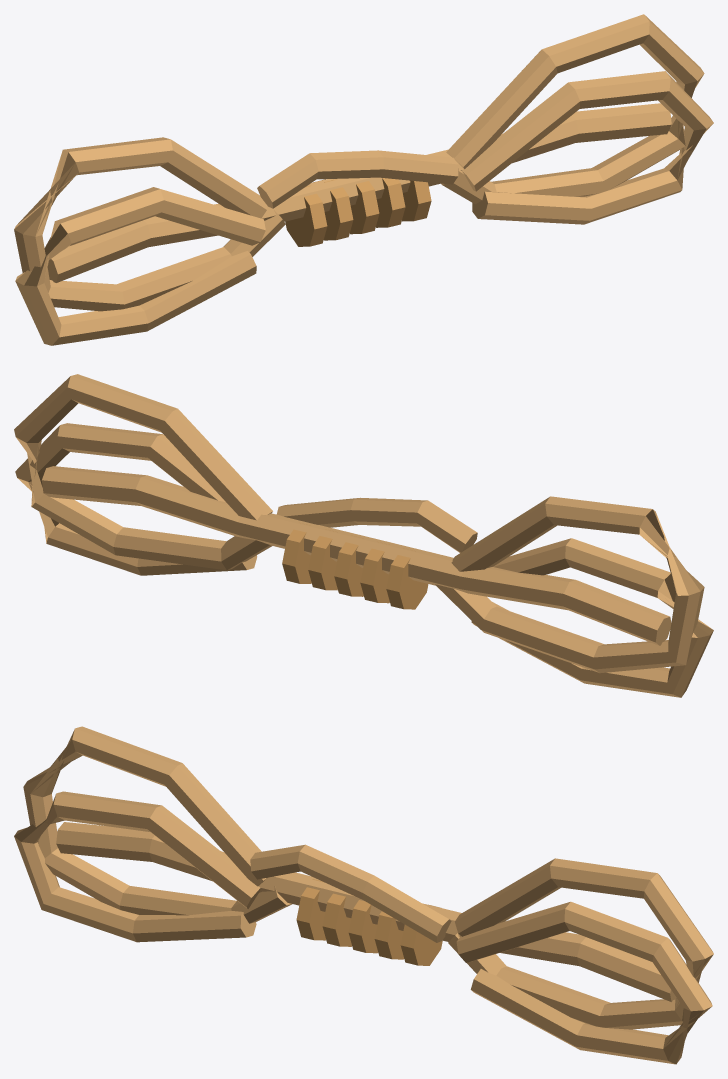
File: cuerda.fbx
3 renders of one model, top to bottom at view 1: azimuth 30°, elevation 25°; view 2: azimuth 150°, elevation 25°; view 3: azimuth 330°, elevation 25°, orthographic.
Visible parts, largest first — view 1: Cuerda_Atada; view 2: Cuerda_Atada; view 3: Cuerda_Atada.
Part boxes in pixels (box(x1,y1,x2,y2)): Cuerda_Atada: box(14, 14, 713, 345); Cuerda_Atada: box(14, 374, 713, 697); Cuerda_Atada: box(14, 726, 713, 1064).
Size of the model in its own units: 374 by 99.26 by 31.5.
